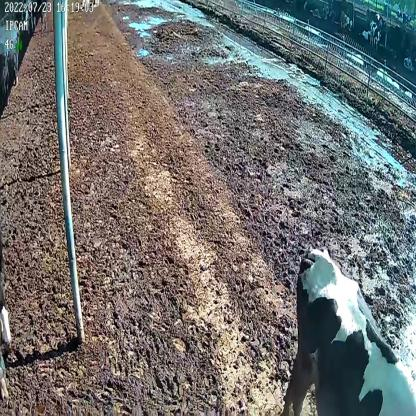cow: (290, 244, 414, 416)
